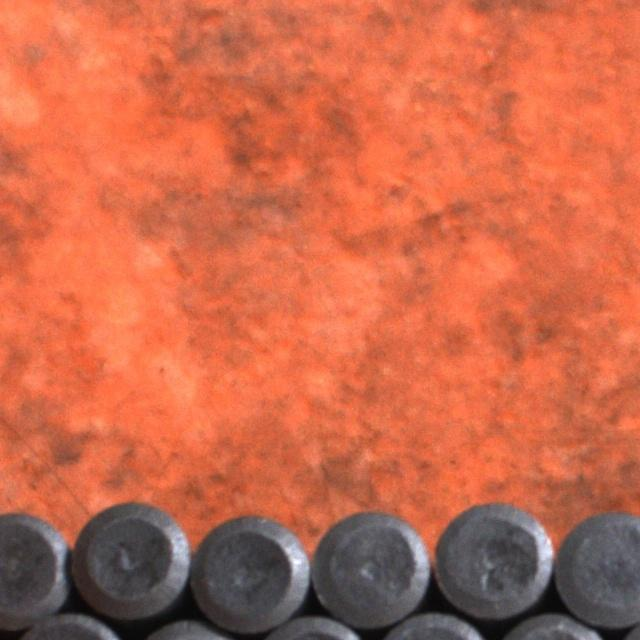tool: (429, 491, 555, 619), (69, 492, 193, 620), (188, 508, 311, 634), (308, 502, 430, 628), (550, 502, 640, 630), (0, 506, 70, 631)
